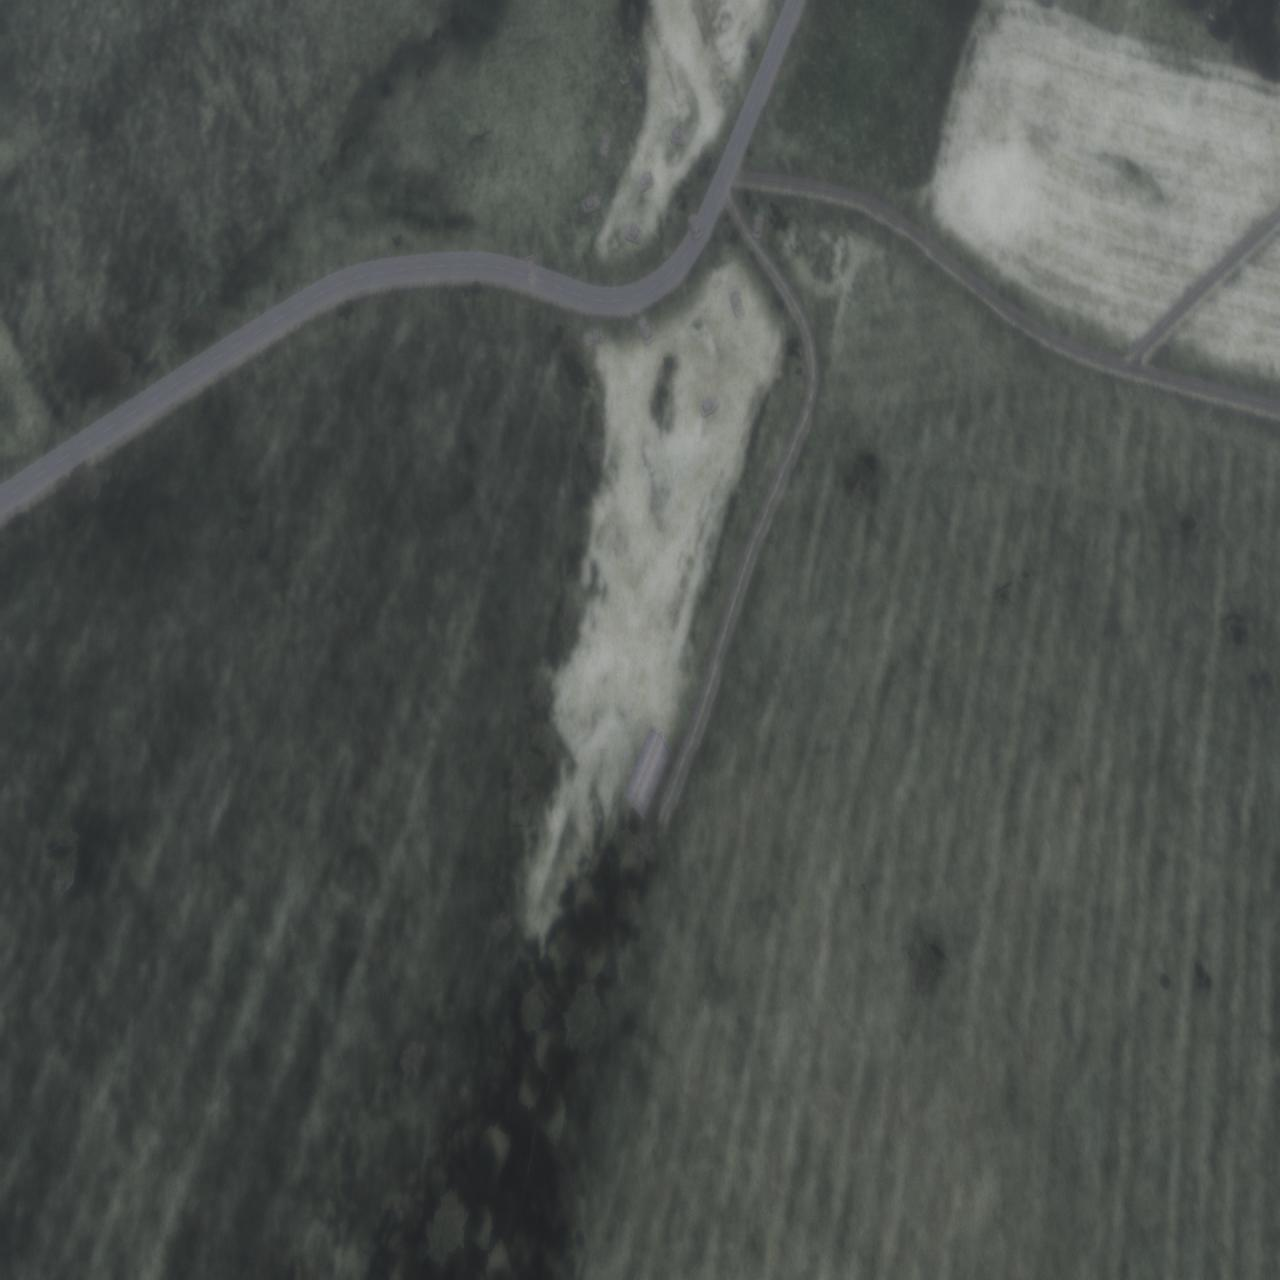MIL_Veh: (635, 306, 654, 348), (687, 204, 703, 241), (581, 190, 606, 213), (729, 288, 745, 321), (598, 128, 613, 163), (524, 254, 538, 291), (699, 394, 720, 417), (633, 171, 654, 193), (583, 327, 604, 348), (622, 223, 642, 245), (670, 125, 688, 148), (753, 210, 763, 243)
